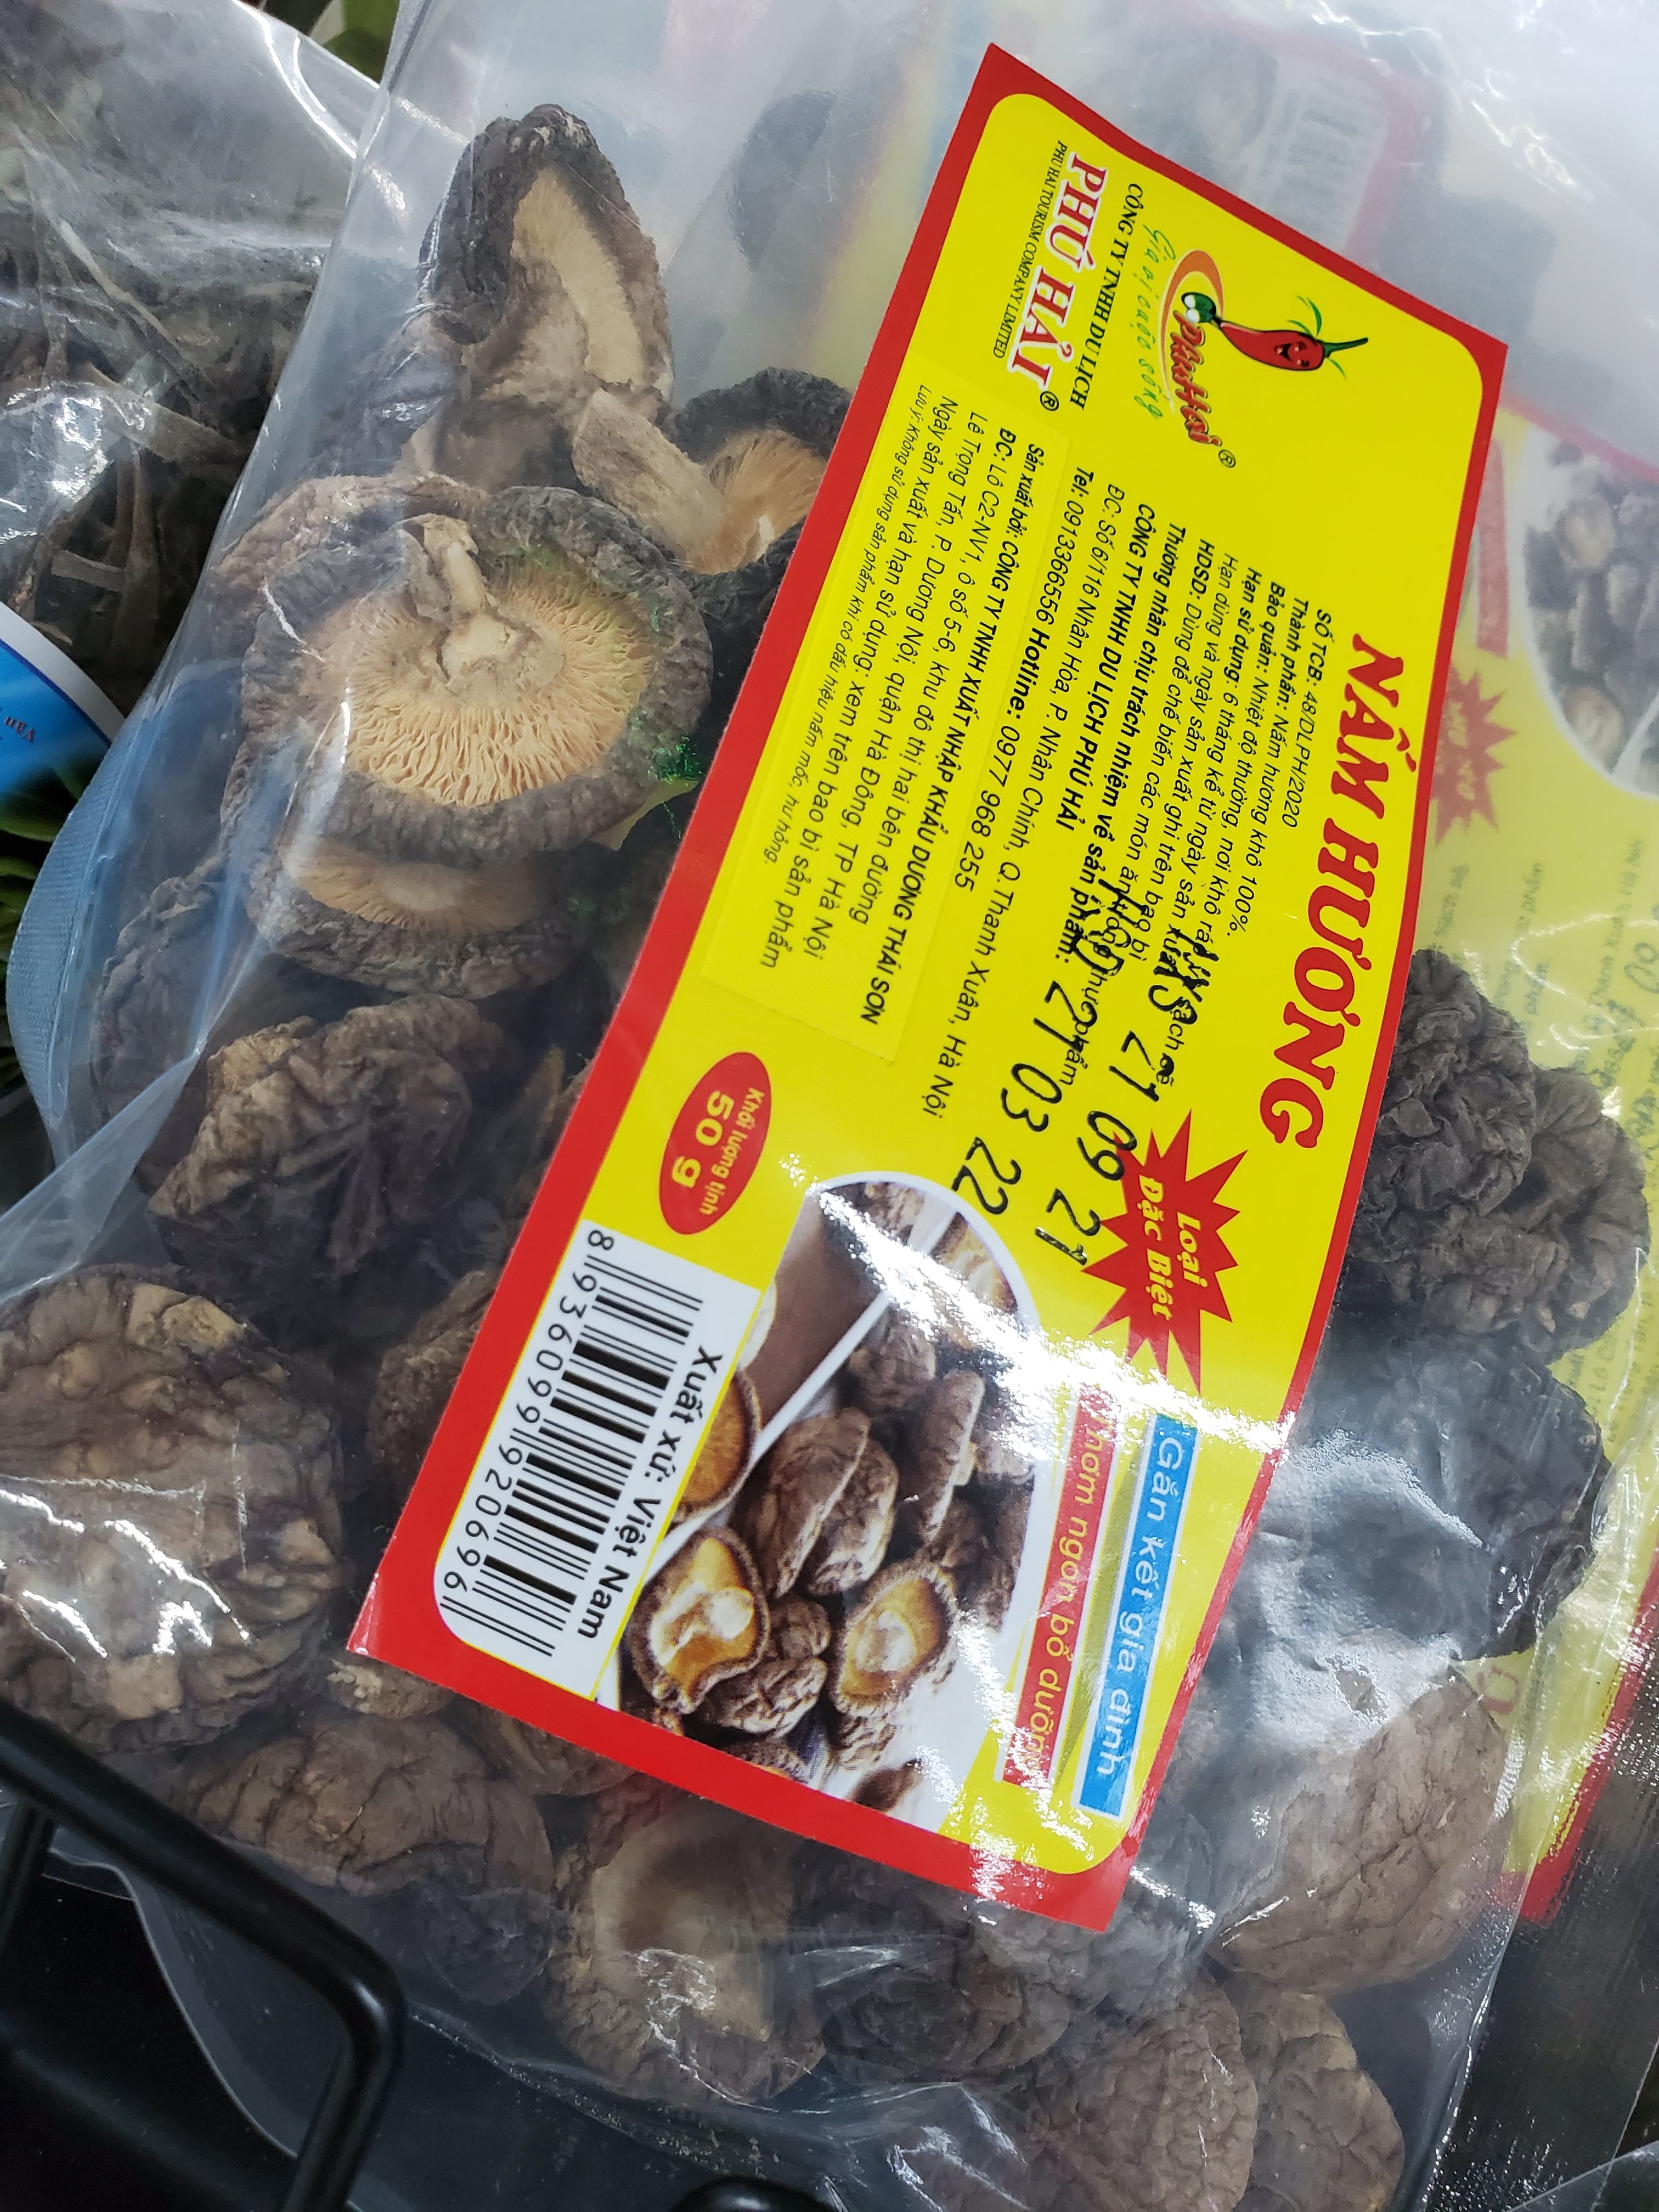barcode: (436, 1212, 716, 1738)
